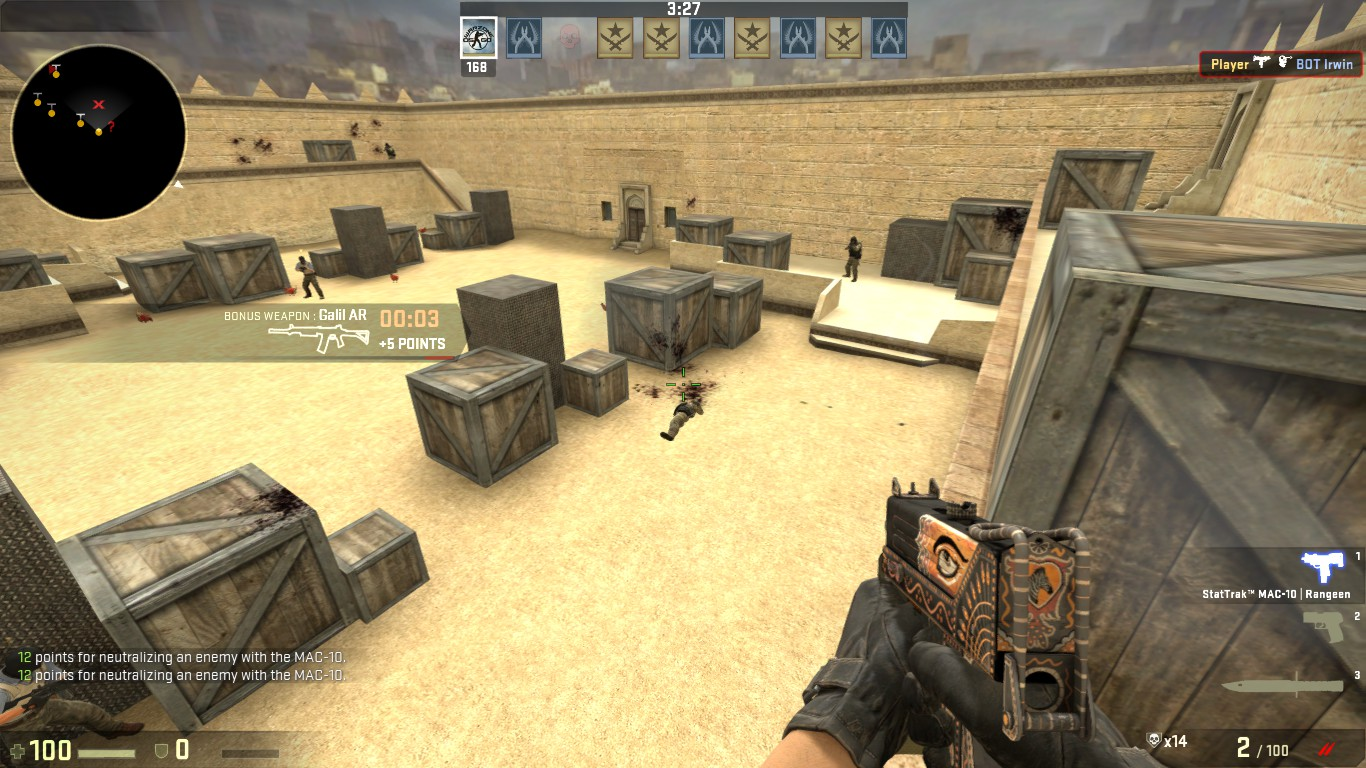c: (843, 236, 862, 281)
ch: (850, 236, 860, 246)
t: (295, 255, 320, 300)
th: (298, 256, 309, 266)
